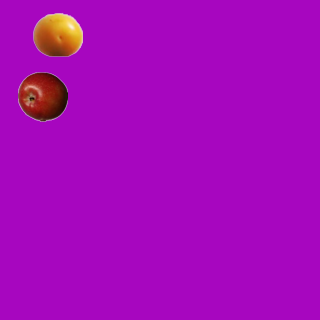Apple Braeburn: (17, 71, 67, 121)
Cherry Wax Yellow: (32, 9, 82, 59)
